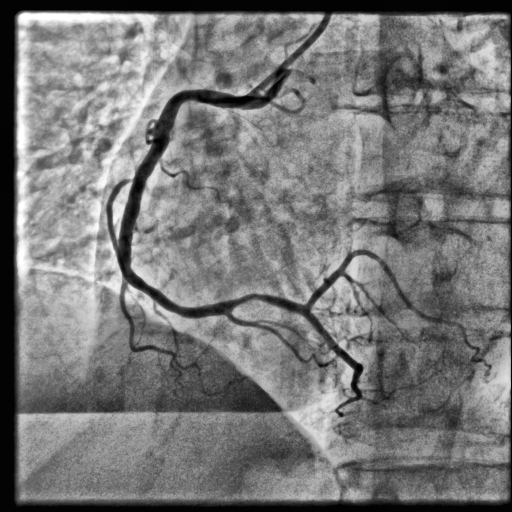pborca: (305, 250, 480, 357)
pda: (303, 311, 363, 418)
rca: (118, 90, 309, 318)
